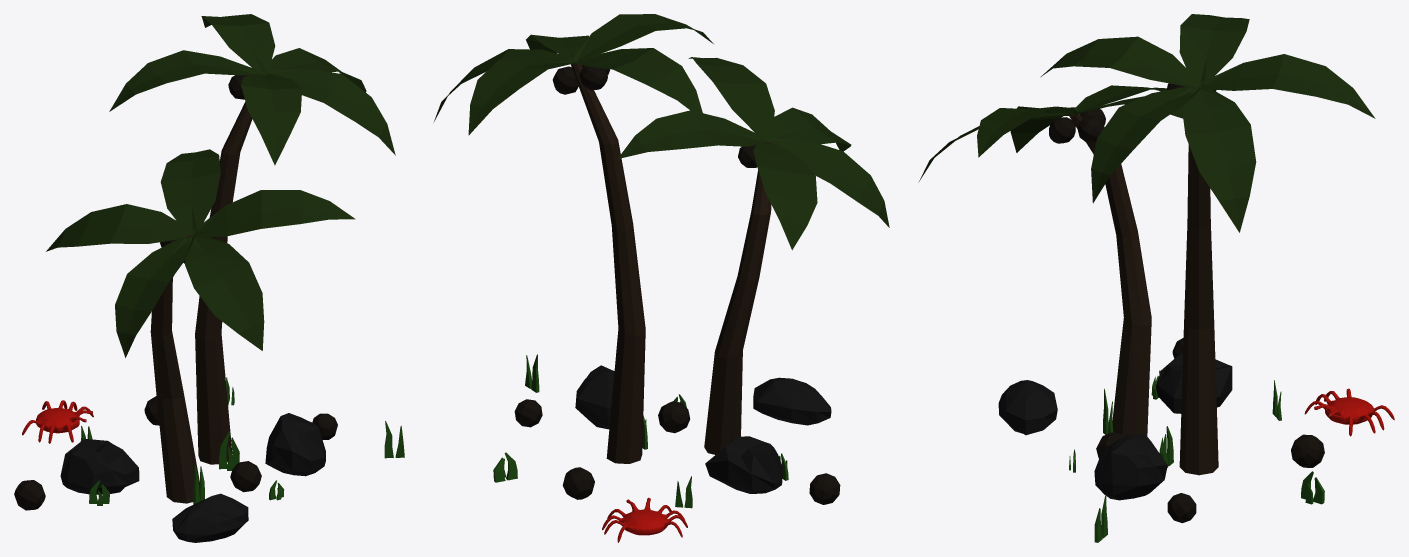
File: uploads_files_70608_beach.obj
The picture shows the model from 3 angles, left to right: view 1: azimuth 30°, elevation 25°; view 2: azimuth 150°, elevation 25°; view 3: azimuth 270°, elevation 25°; orthographic projection. The views are drawn at different scales.
Parts seen in each view (by area): view 1: Plane.000_Plane.010, Plane.003, Cylinder, Cylinder.001, Sphere.003_Sphere.006, Sphere.002_Sphere.005, Sphere_Sphere.004, Sphere.005_Sphere.008, Sphere.009_Sphere.012, Sphere.007_Sphere.010, Cube.004_Cube.005, Sphere.006_Sphere.009; view 2: Plane.000_Plane.010, Plane.003, Cylinder, Cylinder.001, Sphere.003_Sphere.006, Sphere_Sphere.004, Sphere.002_Sphere.005, Sphere.005_Sphere.008, Sphere.001_Sphere.002, Sphere.008_Sphere.011, Sphere.007_Sphere.010, Sphere.009_Sphere.012 (+1 smaller); view 3: Plane.003, Cylinder, Cylinder.001, Plane.000_Plane.010, Sphere.002_Sphere.005, Sphere_Sphere.004, Sphere.003_Sphere.006, Sphere.005_Sphere.008, Sphere.004_Sphere.007, Sphere.008_Sphere.011, Sphere.006_Sphere.009.
Part boxes in pixels (x1,y1,x2,y2): Plane.000_Plane.010: (46,149,355,357); Plane.003: (109,14,395,165); Cylinder: (195,75,263,464); Cylinder.001: (150,234,199,503); Sphere.003_Sphere.006: (60,438,139,494); Sphere.002_Sphere.005: (265,413,325,476); Sphere_Sphere.004: (172,493,248,542); Sphere.005_Sphere.008: (22,400,93,443); Sphere.009_Sphere.012: (14,480,45,510); Sphere.007_Sphere.010: (230,461,261,492); Cube.004_Cube.005: (219,431,239,470); Sphere.006_Sphere.009: (312,413,337,439); Plane.000_Plane.010: (618,57,889,250); Plane.003: (433,14,713,135); Cylinder: (571,63,645,463); Cylinder.001: (704,141,771,454); Sphere.003_Sphere.006: (705,436,782,493); Sphere_Sphere.004: (753,377,831,425); Sphere.002_Sphere.005: (575,365,614,429); Sphere.005_Sphere.008: (602,497,687,542); Sphere.001_Sphere.002: (552,65,609,94); Sphere.008_Sphere.011: (562,467,594,499); Sphere.007_Sphere.010: (658,401,690,433); Sphere.009_Sphere.012: (809,473,840,504); Plane.003: (1040,14,1375,232); Cylinder: (1179,86,1218,475); Cylinder.001: (1069,114,1151,435); Plane.000_Plane.010: (918,85,1185,182); Sphere.002_Sphere.005: (1094,434,1167,500); Sphere_Sphere.004: (998,380,1057,435); Sphere.003_Sphere.006: (1155,353,1232,413); Sphere.005_Sphere.008: (1304,388,1394,436); Sphere.004_Sphere.007: (1049,109,1105,143); Sphere.008_Sphere.011: (1291,434,1324,467); Sphere.006_Sphere.009: (1167,493,1196,523).
Size of the model in its own units: 17.7 by 18.18 by 18.06.
